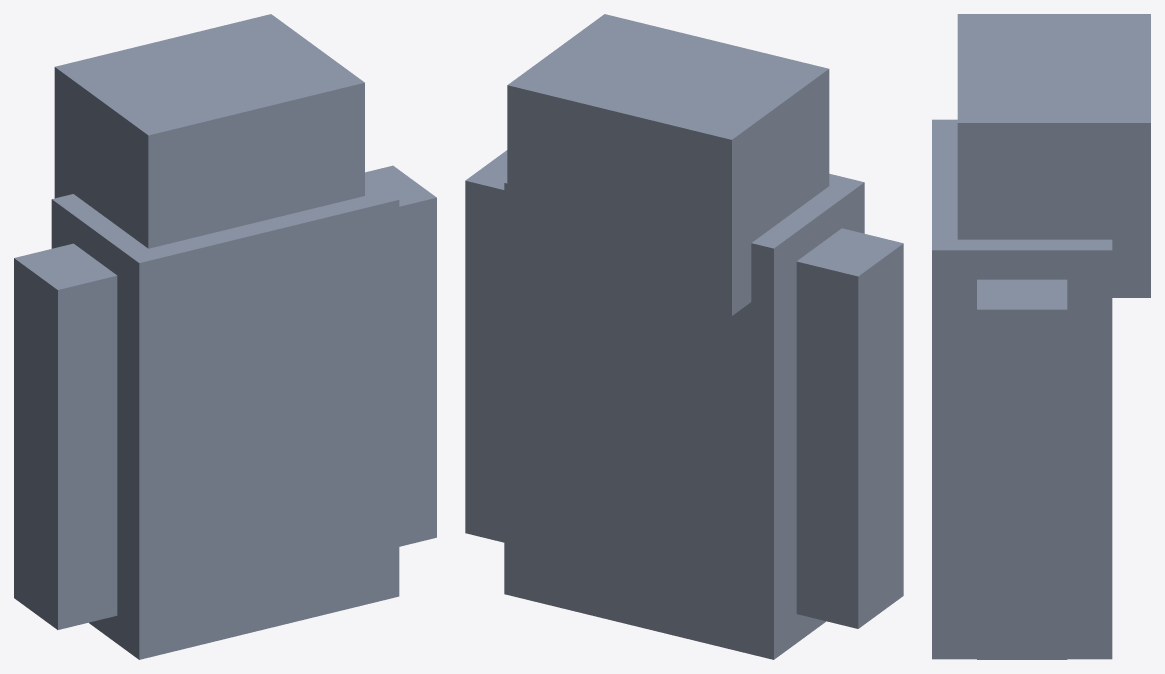
File: hoodie.glb
The picture shows the model from 3 angles, left to right: view 1: azimuth 30°, elevation 25°; view 2: azimuth 150°, elevation 25°; view 3: azimuth 270°, elevation 25°; orthographic projection. The views are drawn at different scales.
Parts seen in each view (by area): view 1: garment, hood, sleeve_l, sleeve_r; view 2: garment, hood, sleeve_l, sleeve_r; view 3: hood, garment, sleeve_r.
Boxes of the visible parts, x1,y1,x2,y2 form: garment: (51,175,399,659); hood: (54,14,364,248); sleeve_l: (14,243,117,629); sleeve_r: (365,165,436,546); garment: (504,173,864,659); hood: (507,14,829,315); sleeve_l: (796,228,903,628); sleeve_r: (465,150,507,542); hood: (957,14,1150,297); garment: (932,119,1112,659); sleeve_r: (977,279,1067,659).
Bounding box in the file's own units: 0.7001 × 0.9001 × 0.3399.
